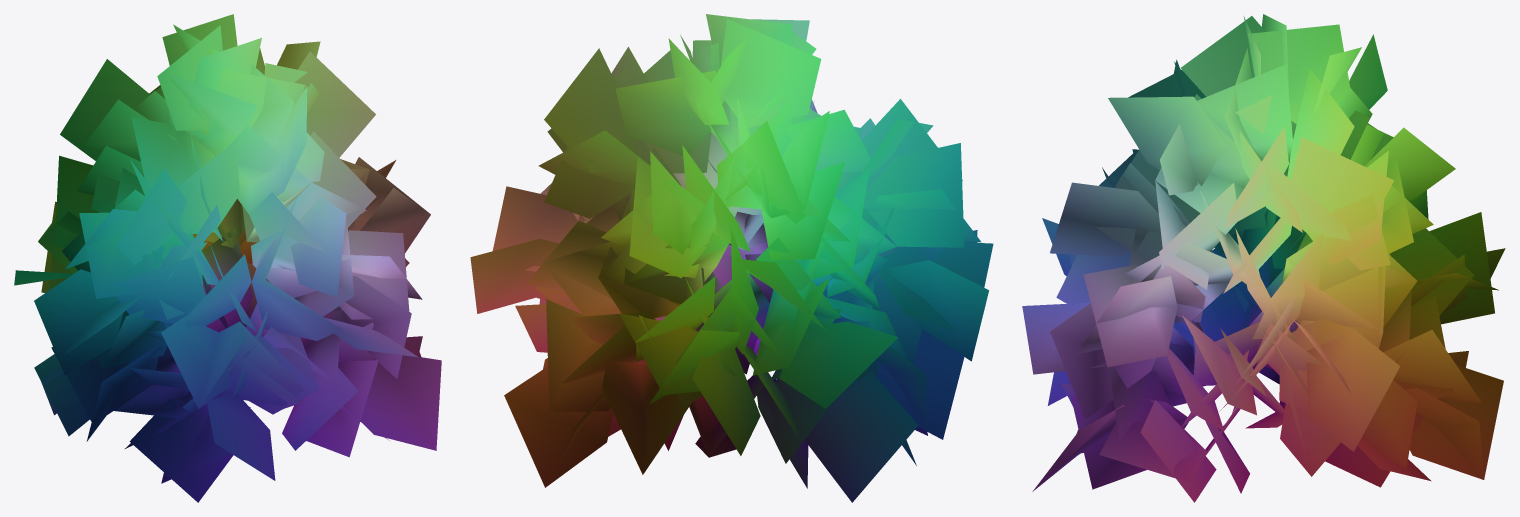
The model's file is Forest_plant_shrub_031_01_a.fbx.
3 renders of one model, left to right at view 1: azimuth 30°, elevation 25°; view 2: azimuth 150°, elevation 25°; view 3: azimuth 270°, elevation 25°, orthographic. The views are drawn at different scales.
Parts seen in each view (by area): view 1: attribwrangle50; view 2: attribwrangle50; view 3: attribwrangle50.
Boxes of the visible parts, x1,y1,x2,y2 form: attribwrangle50: (14, 14, 441, 502); attribwrangle50: (470, 14, 993, 502); attribwrangle50: (1022, 14, 1505, 502).
Size of the model in its own units: 346 by 323 by 322.
